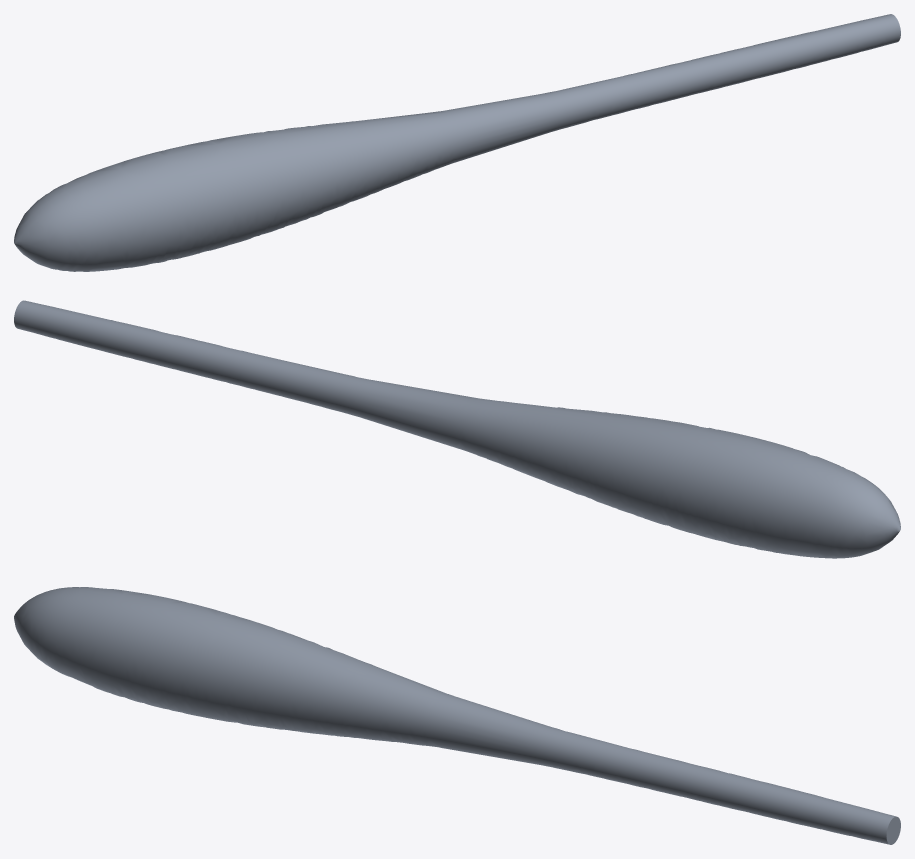
Rendered from step-1-preview-1.glb.
3 views of the same model, one above another, from view 1: azimuth 30°, elevation 25°; view 2: azimuth 150°, elevation 25°; view 3: azimuth 330°, elevation 25° (orthographic).
Parts seen in each view (by area): view 1: preview_0; view 2: preview_0; view 3: preview_0.
Part boxes in pixels (x1,y1,x2,y2): preview_0: [14, 14, 900, 271]; preview_0: [14, 300, 900, 558]; preview_0: [14, 587, 895, 844].
Size of the model in its own units: 0.14 by 0.015 by 0.015.
